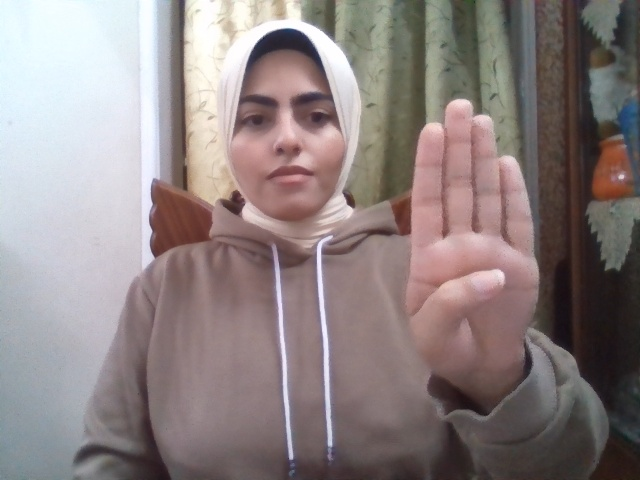B: (405, 99, 539, 389)
